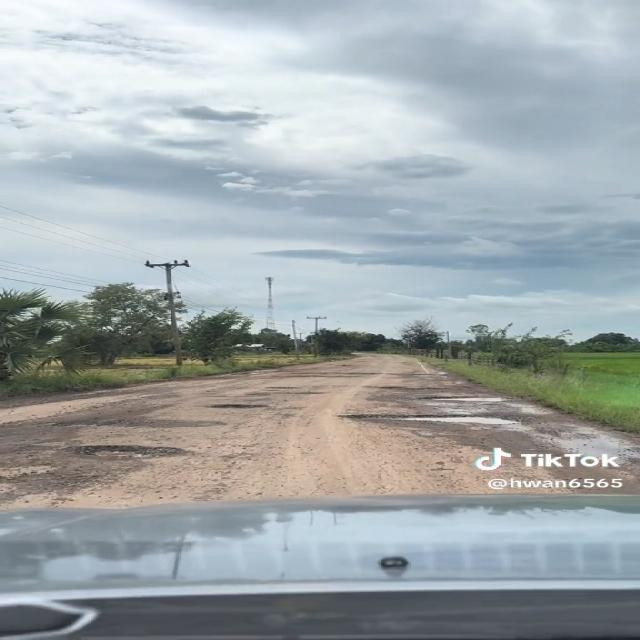Poth-hole: (216, 435, 394, 491)
